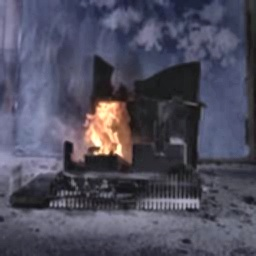fire: (79, 88, 136, 166)
